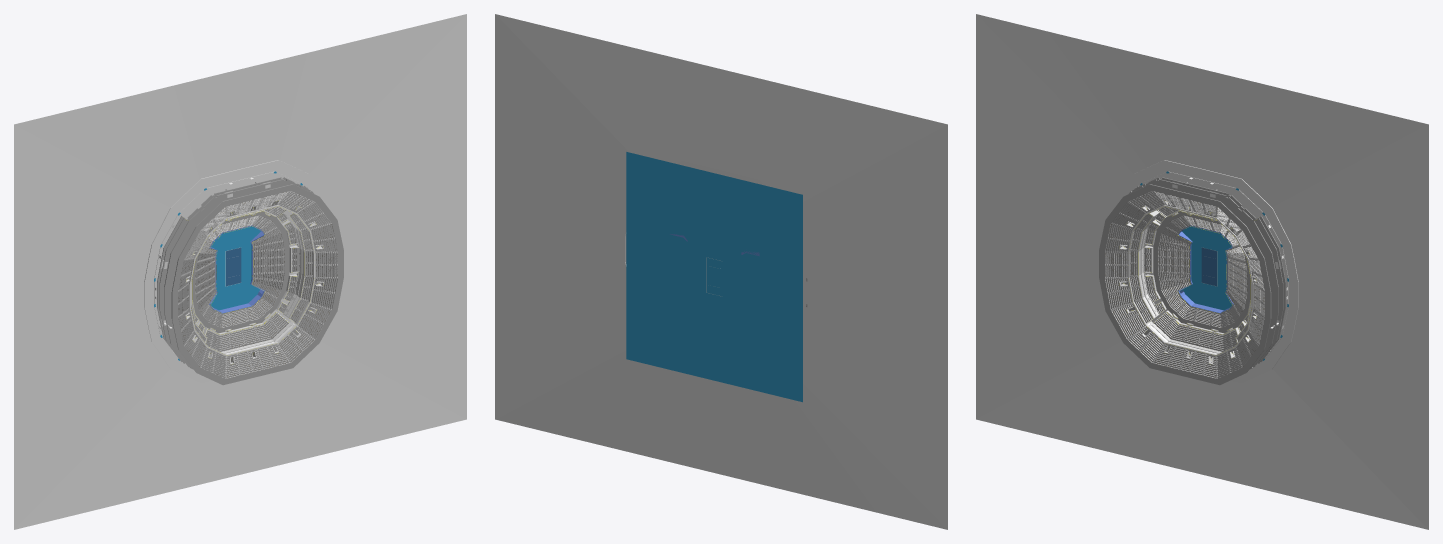
File: grd.glb
The picture shows the model from 3 angles, left to right: view 1: azimuth 30°, elevation 25°; view 2: azimuth 150°, elevation 25°; view 3: azimuth 330°, elevation 25°; orthographic projection.
Visible parts, largest first — view 1: Plane, Stands, Seats, Levels, Mesh_0, Isle Steps, Barriers, Rails, Windows, Mesh_1; view 2: Plane, Mesh_0; view 3: Plane, Stands, Seats, Levels, Mesh_0, Isle Steps, Barriers, Rails, Windows, Mesh_1.
Boxes of the visible parts, x1,y1,x2,y2 form: Plane: (14, 14, 466, 529); Stands: (157, 177, 343, 385); Seats: (178, 191, 337, 378); Levels: (185, 200, 323, 364); Mesh_0: (154, 171, 302, 360); Isle Steps: (178, 191, 337, 378); Barriers: (209, 225, 264, 313); Rails: (186, 200, 323, 364); Windows: (224, 214, 303, 354); Mesh_1: (226, 247, 241, 286); Plane: (495, 14, 947, 529); Mesh_0: (626, 152, 802, 402); Plane: (976, 14, 1428, 529); Stands: (1099, 177, 1285, 385); Seats: (1105, 191, 1264, 378); Levels: (1119, 200, 1257, 364); Mesh_0: (1140, 171, 1288, 360); Isle Steps: (1105, 191, 1264, 378); Barriers: (1178, 225, 1233, 313); Rails: (1119, 200, 1256, 364); Windows: (1139, 214, 1218, 354); Mesh_1: (1201, 247, 1216, 286).
Bounding box in the file's own units: 317 × 272 × 30.01.
13 materials, 2 textured.
